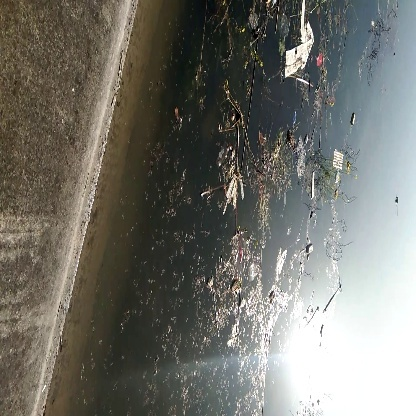plastic-bag: (285, 12, 317, 83)
